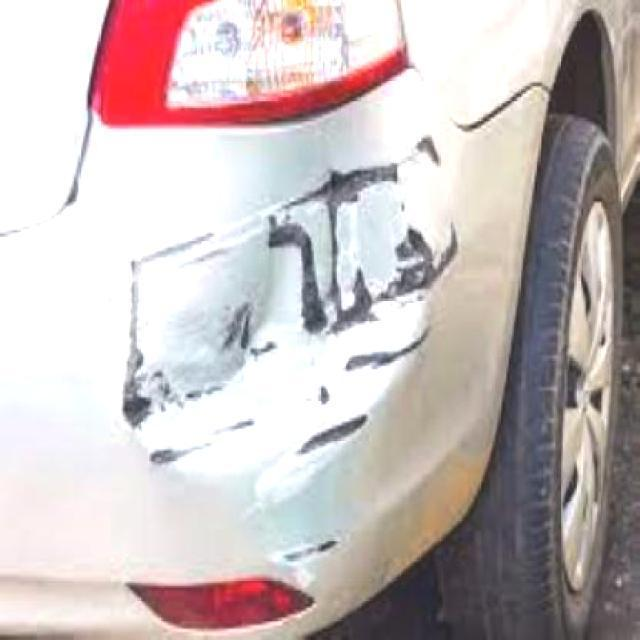minor: (312, 382, 332, 408)
moderate: (120, 140, 457, 474), (268, 140, 440, 335), (343, 332, 431, 377), (271, 538, 337, 568)
